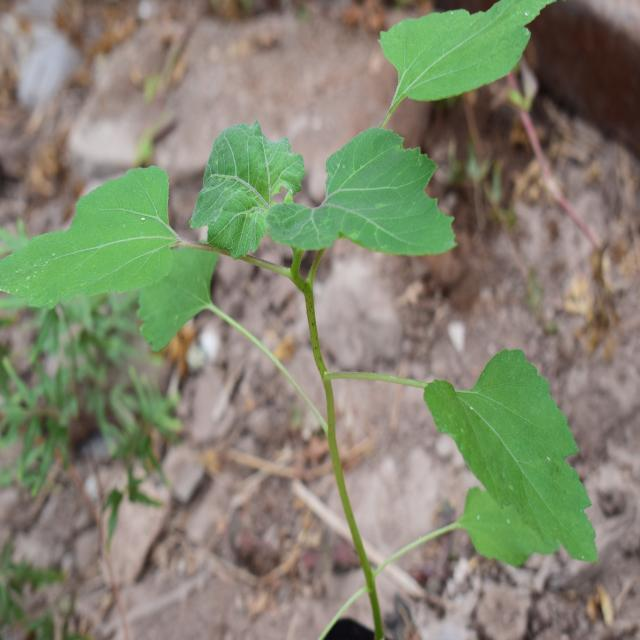cocklebur: (6, 20, 605, 540)
